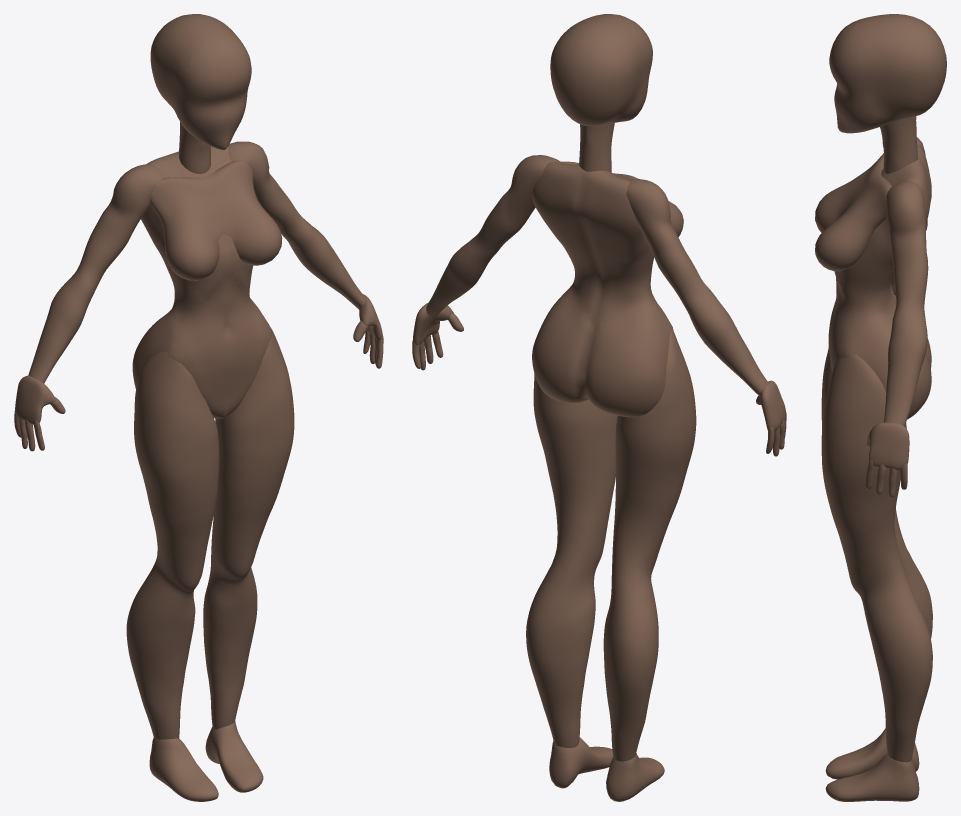
Rendered from slim-dark.glb.
3 views of the same model, side by side, from view 1: azimuth 30°, elevation 25°; view 2: azimuth 150°, elevation 25°; view 3: azimuth 270°, elevation 25° (orthographic).
Parts seen in each view (by area): view 1: FEMALE BODY TYPE 5_FEMALE BODY TYPE 5_0; view 2: FEMALE BODY TYPE 5_FEMALE BODY TYPE 5_0; view 3: FEMALE BODY TYPE 5_FEMALE BODY TYPE 5_0.
Boxes of the visible parts, x1=… form: FEMALE BODY TYPE 5_FEMALE BODY TYPE 5_0: x1=14, y1=14, x2=383, y2=801; FEMALE BODY TYPE 5_FEMALE BODY TYPE 5_0: x1=412, y1=14, x2=786, y2=801; FEMALE BODY TYPE 5_FEMALE BODY TYPE 5_0: x1=815, y1=14, x2=946, y2=801.
Size of the model in its own units: 0.8784 by 1.77 by 0.2759.
